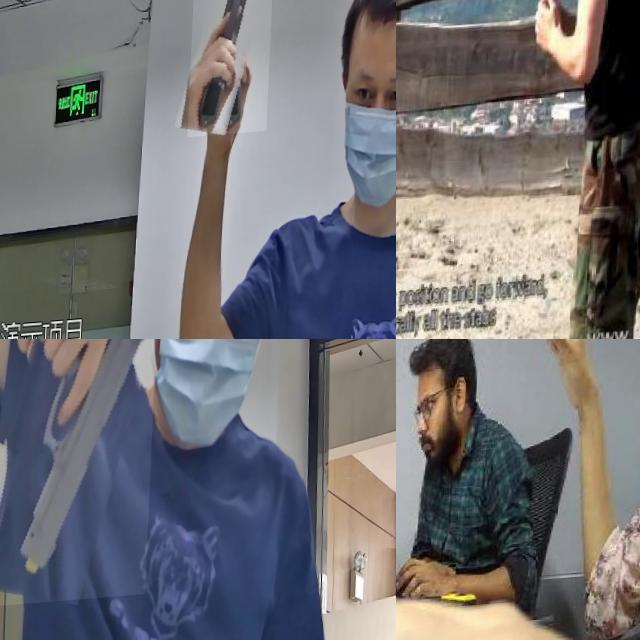-: (500, 339, 564, 396), (396, 139, 436, 191)
gun-knife-thesis - v11 Yolov5 augmented: (0, 339, 163, 610), (191, 0, 278, 141)
